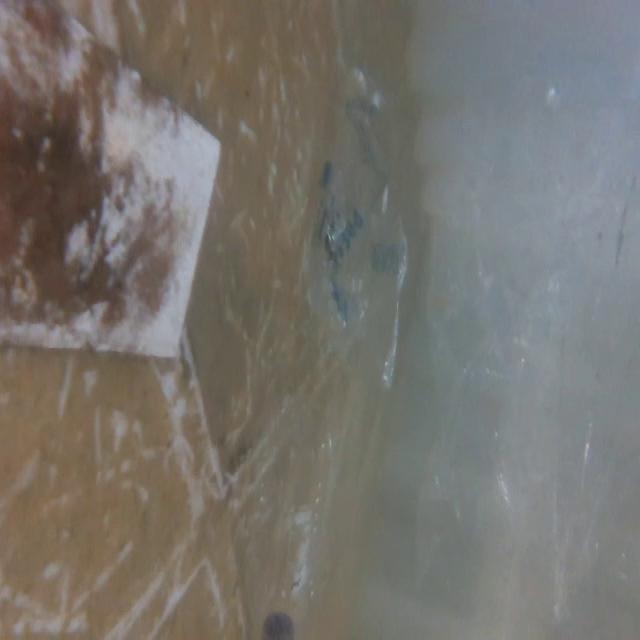metal: (0, 5, 251, 394)
plastic bags: (425, 0, 640, 605), (301, 62, 413, 400)
